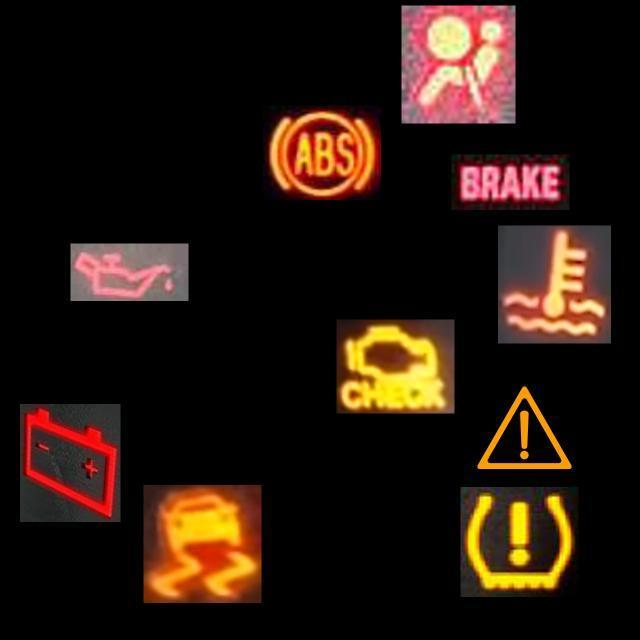Central Warning lamp: (466, 369, 584, 487)
Engine cooling system: (498, 225, 611, 344)
